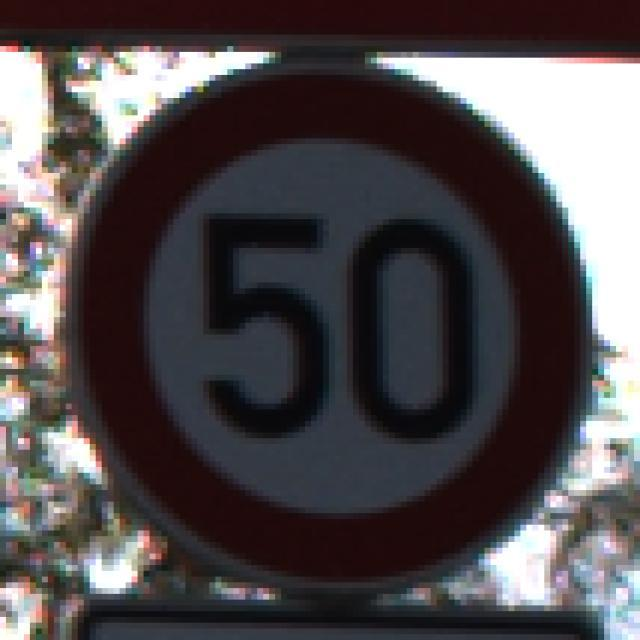speed limit 50: (51, 44, 600, 596)
